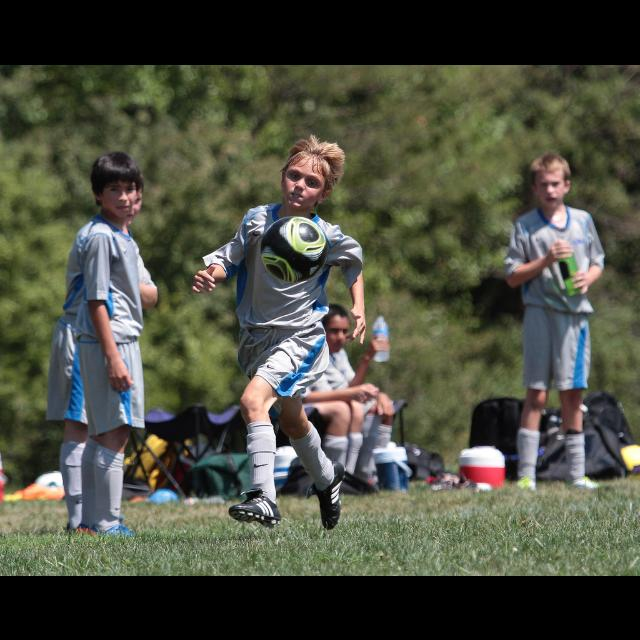Football: (260, 212, 328, 282)
